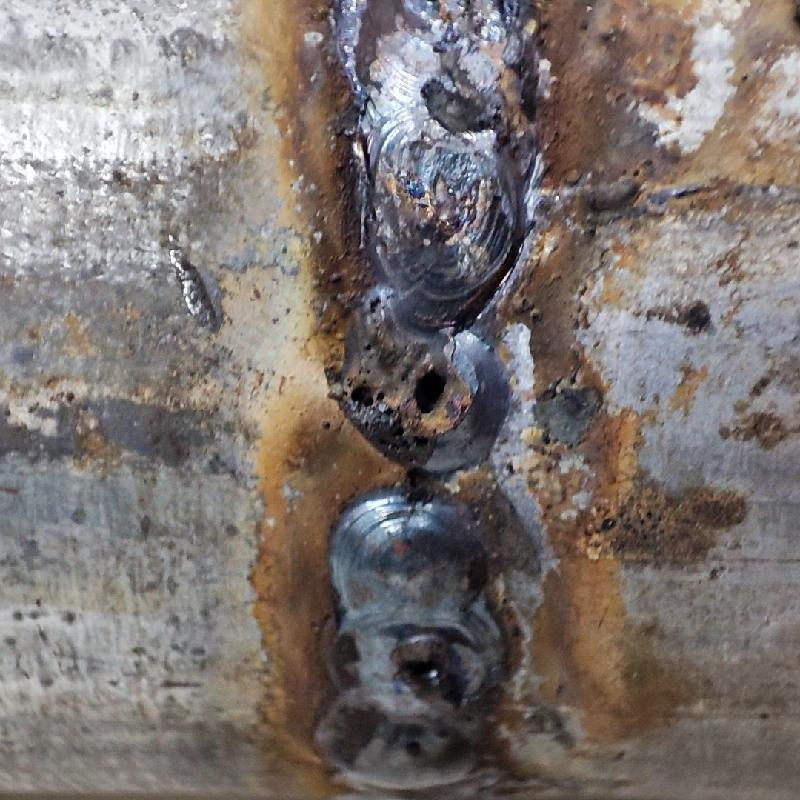Surface_pores: (336, 343, 481, 439), (381, 635, 445, 769)
wrong_size: (312, 0, 533, 791)
